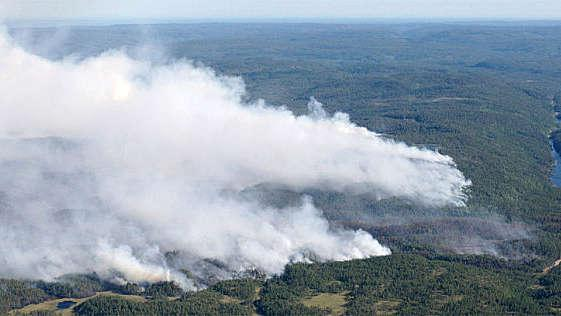smoke: (14, 37, 473, 212), (8, 165, 394, 285)
